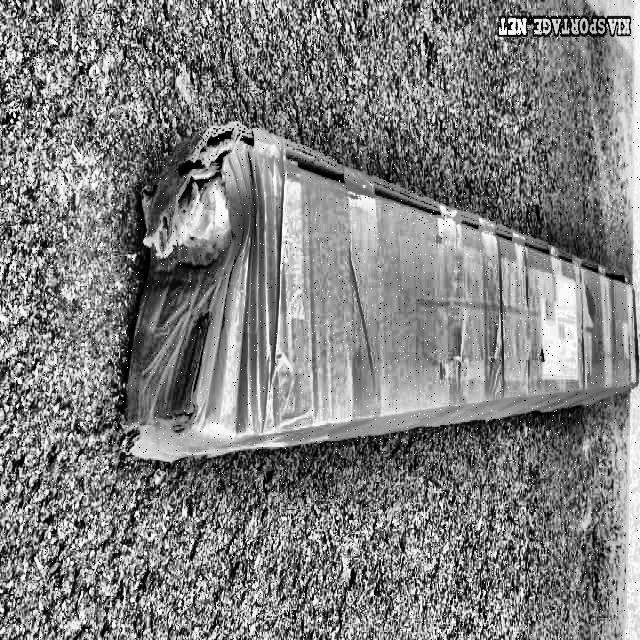box: (127, 117, 640, 463)
hole: (149, 128, 241, 259)
